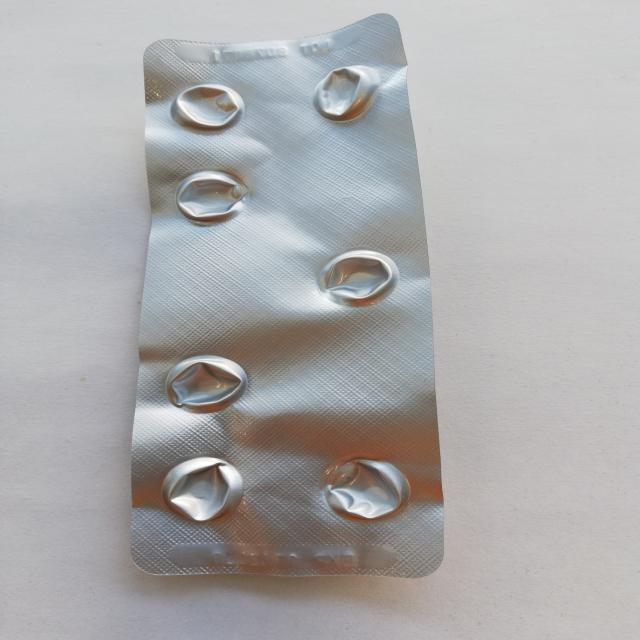Empty: (154, 454, 248, 528), (320, 455, 412, 525), (159, 348, 252, 416), (311, 248, 404, 310), (169, 165, 252, 229), (166, 79, 248, 135), (309, 61, 380, 124)
